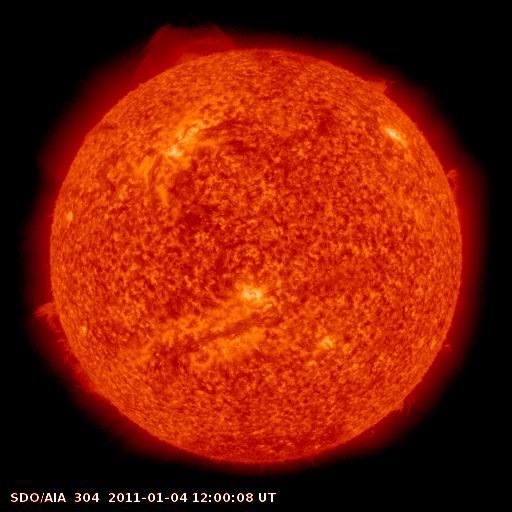prominence: (23, 291, 120, 412), (120, 15, 257, 85), (350, 57, 408, 105), (432, 153, 473, 209), (377, 384, 428, 422)
